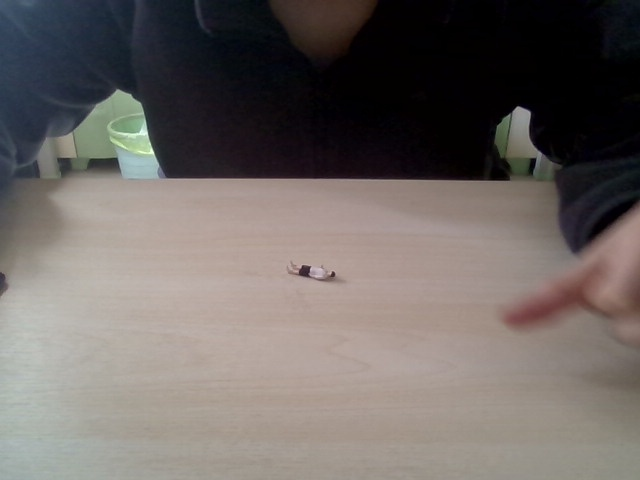fall: (283, 257, 341, 285)
